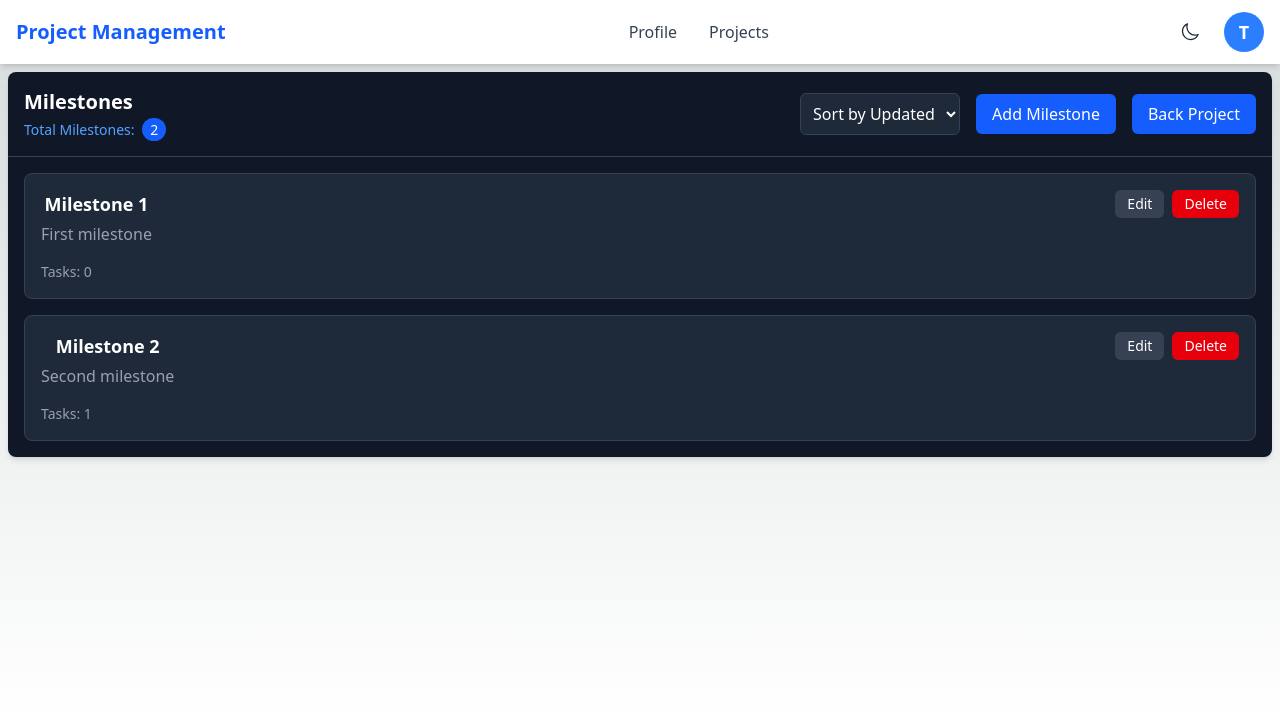
Test: Milestones › should delete milestones
Click the button "Delete" in the row of "Milestone 1".
click(1206, 204)  # box [1172,190,1239,218]
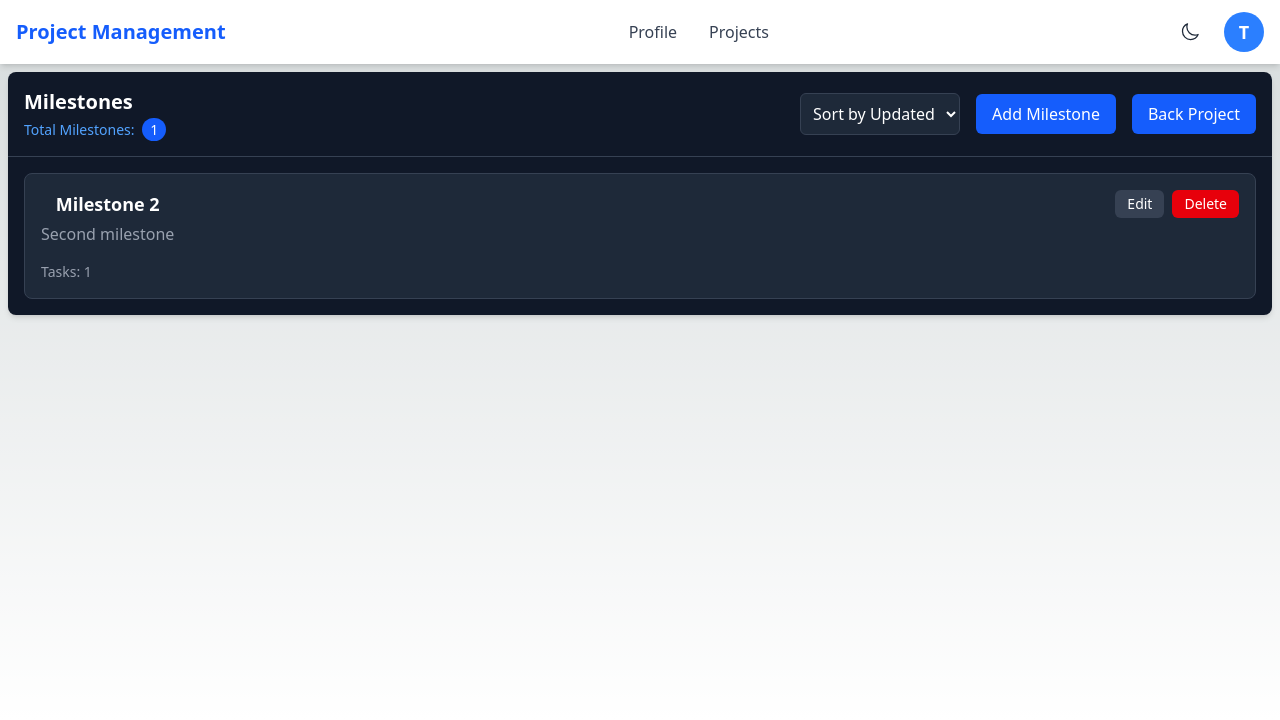
Now the heading "Milestone 1" is gone
